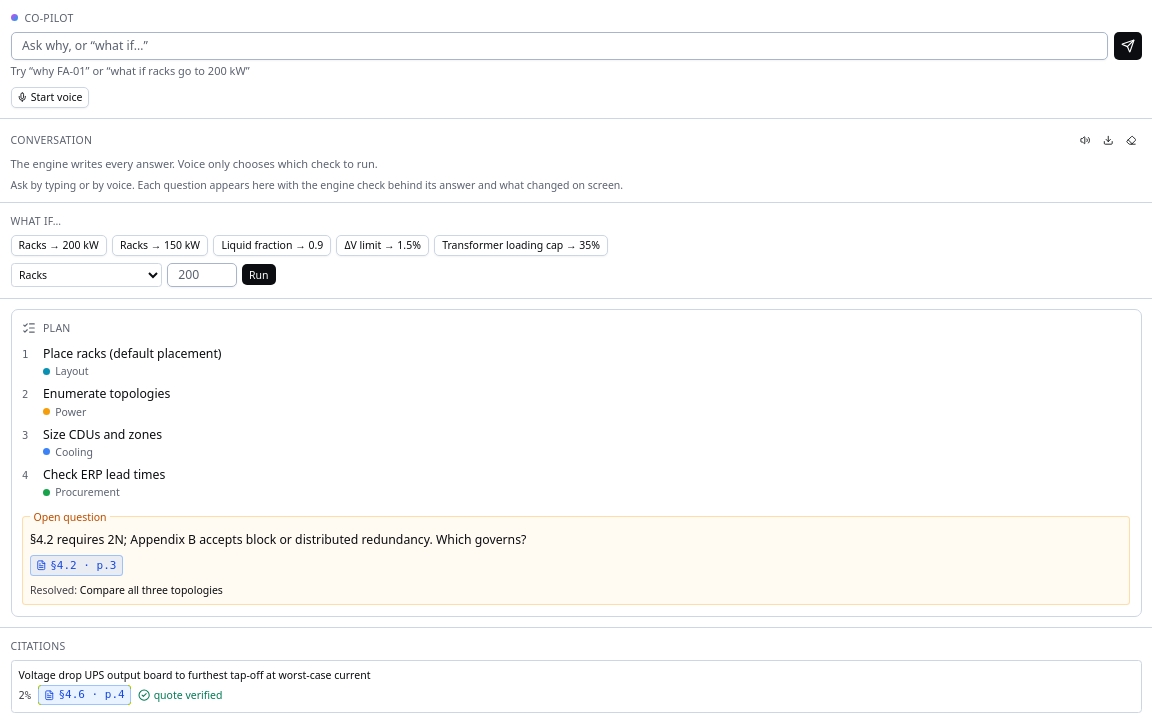
Scenario: a typed question the co-pilot does not understand says no engine check ran
Type "hello" into the field named "Ask the co-pilot" at (559, 46), box [10,32,1108,60]
Then press Enter
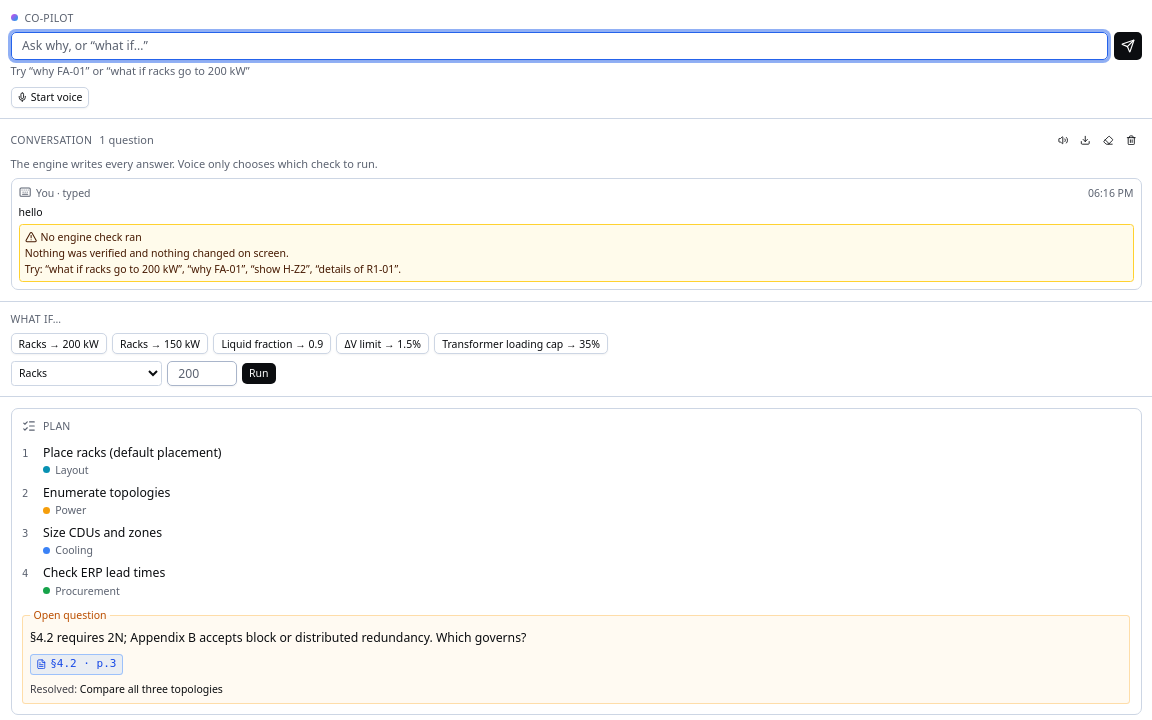
Expected: the text "No engine check ran" is shown, [40,230,142,244]
Expected: the text "Try: “what if racks go to 200 kW”" is shown, [25,262,401,276]
